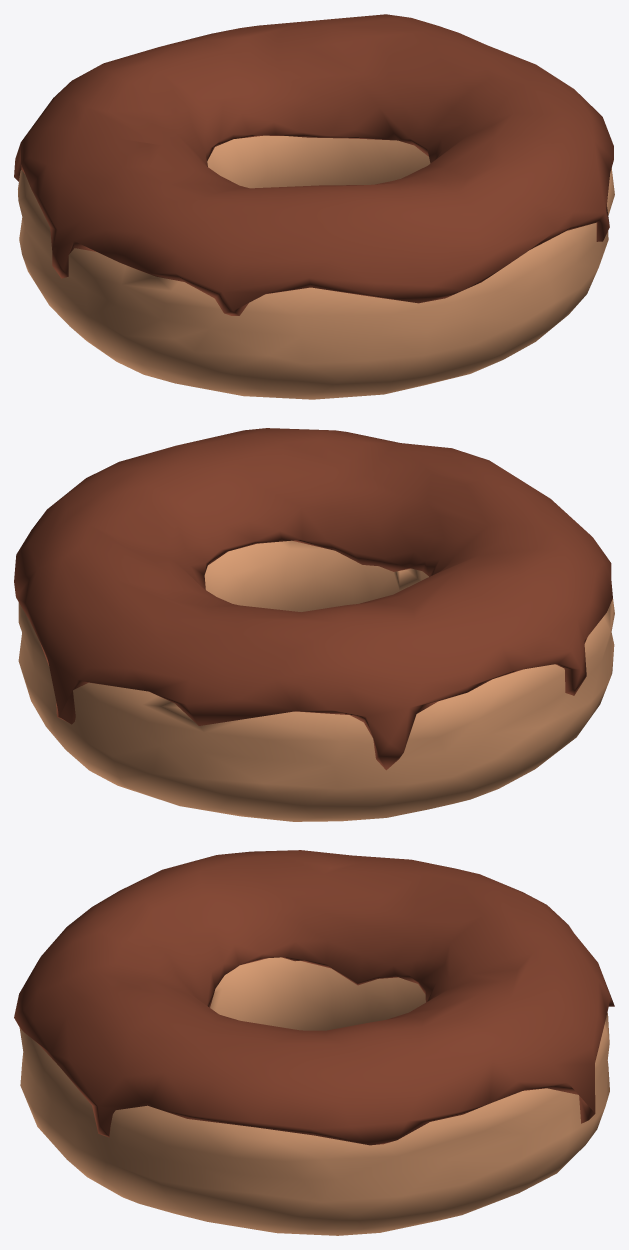
The model's file is donut.glb.
3 renders of one model, top to bottom at view 1: azimuth 30°, elevation 25°; view 2: azimuth 150°, elevation 25°; view 3: azimuth 270°, elevation 25°, orthographic.
Parts seen in each view (by area): view 1: Es; view 2: Es; view 3: Es.
Boxes of the visible parts, box(x1,y1,x2,y2) form: Es: box(14, 14, 614, 399); Es: box(14, 428, 614, 821); Es: box(14, 850, 614, 1235).
Bounding box in the file's own units: 0.1498 × 0.055 × 0.1464.
